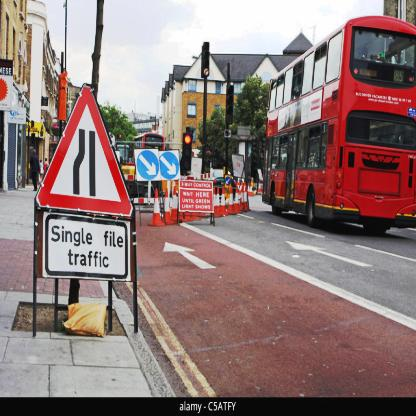Keep right: (135, 147, 160, 182), (161, 150, 181, 180)
